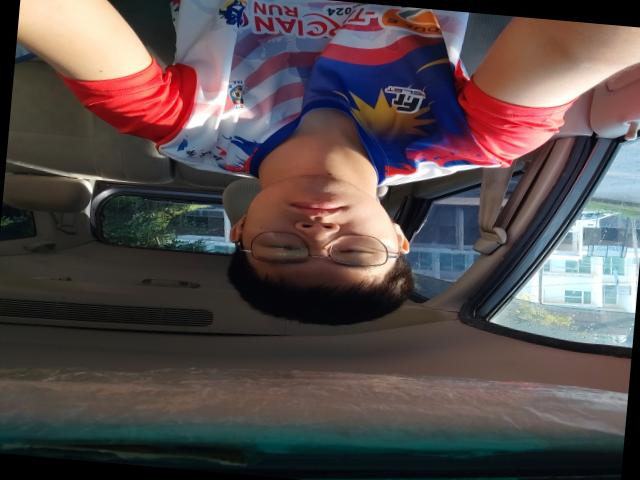eye_closed: (332, 244, 379, 262), (260, 237, 304, 256)
face: (240, 167, 407, 294)
